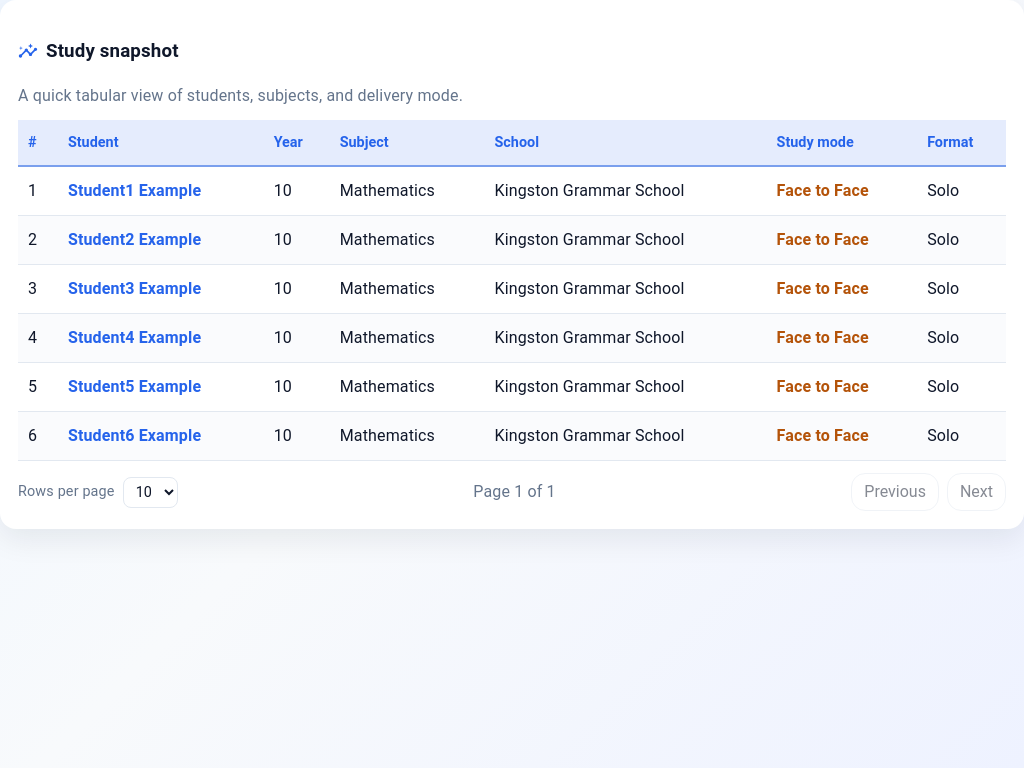
StudySnapshotView › lets users change rows per page from a dropdown
The width and height of the screenshot is (1024, 768).
Expected: the text "Page 1 of 1" is shown, [473,480,556,504]
Expected: the link "Student6 Example" is shown, [68,426,201,445]
Select "5" in the dropdown labelled "Rows per page": (150, 492) [123,477,178,508]
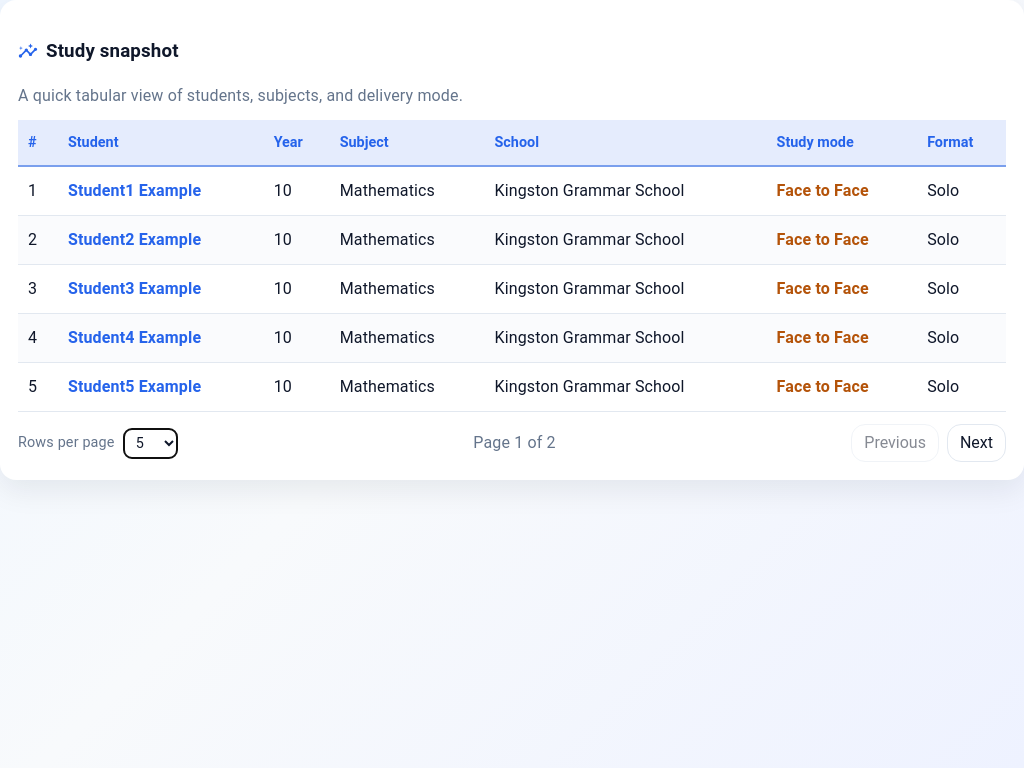
Result: the text "Page 1 of 2" is shown at [473,431,556,455]
Result: the link "Student6 Example" is gone
Click the button "Next": (976, 443) [947,424,1006,462]
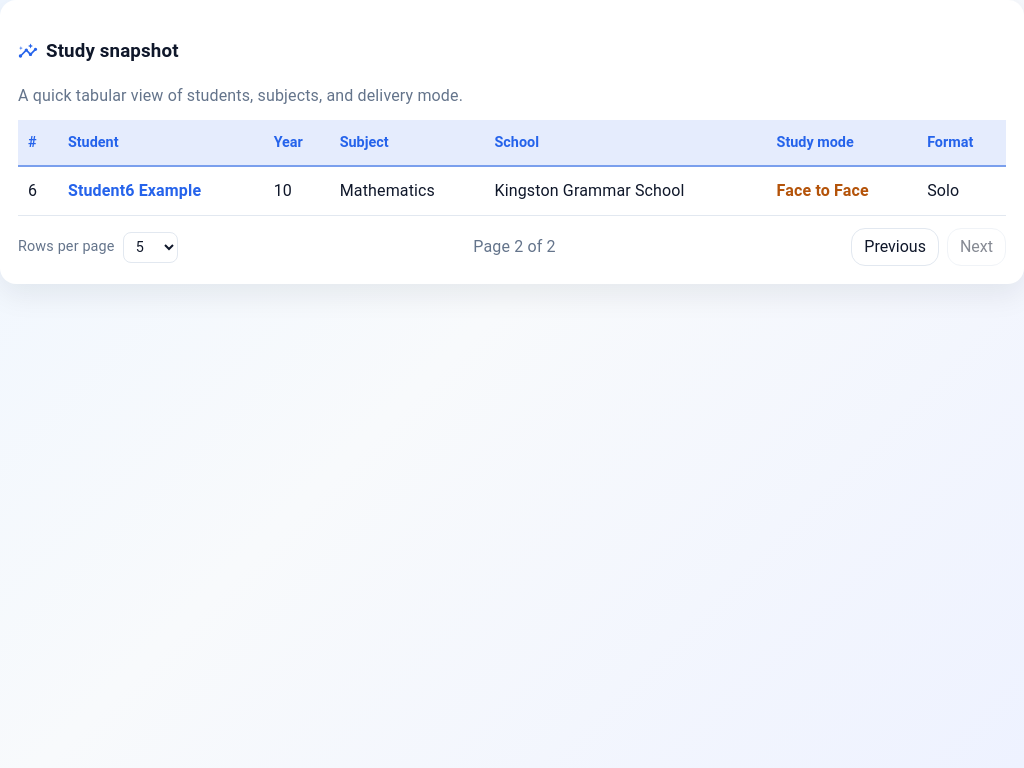
Result: the text "Page 2 of 2" is shown at [473,235,556,259]
Result: the link "Student6 Example" is shown at [68,181,201,200]
Click the button "Previous": (895, 247) [851,228,939,266]
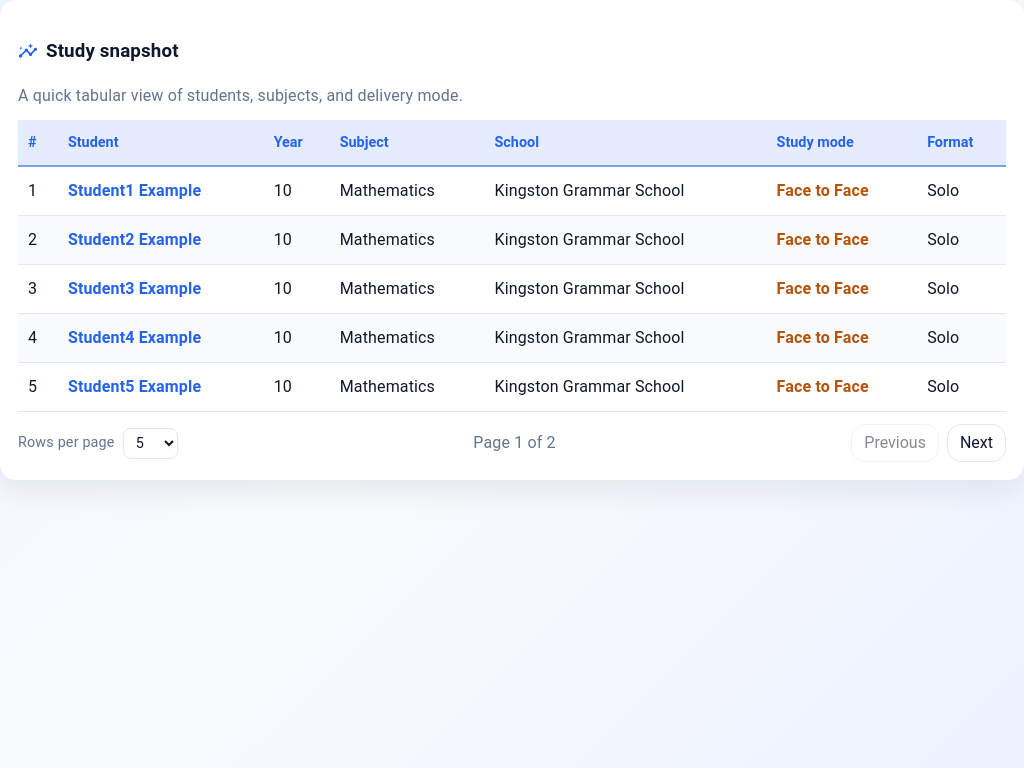
Result: the text "Page 1 of 2" is shown at [473,431,556,455]
